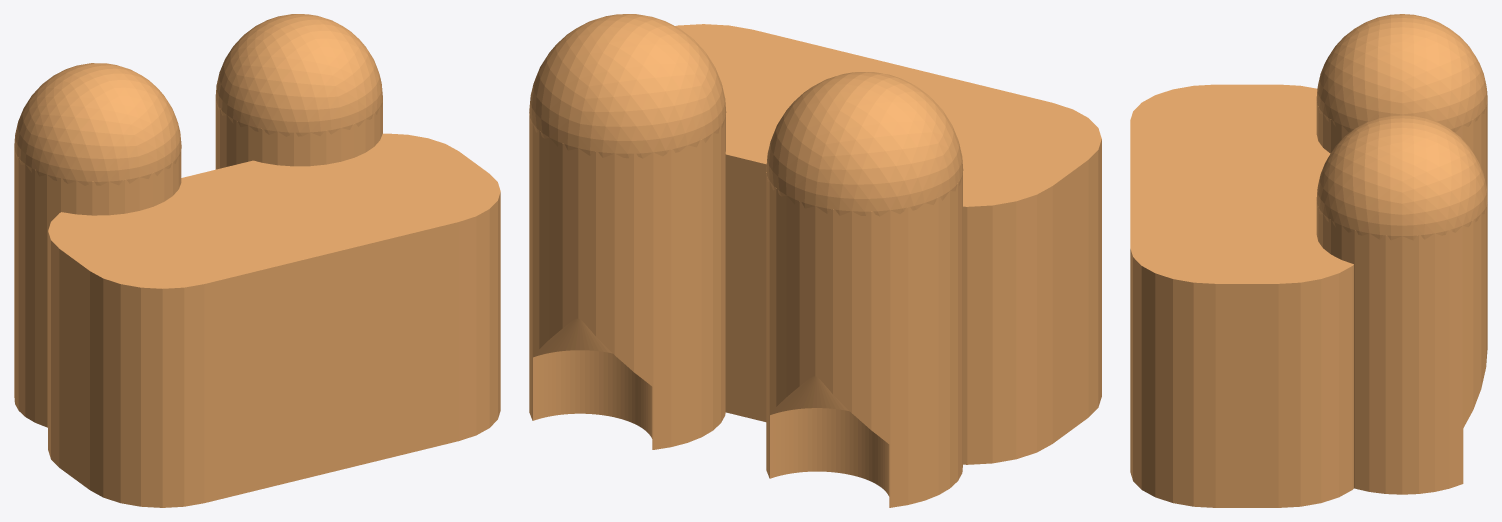
The model's file is robot-back-jetpack.glb.
3 renders of one model, left to right at view 1: azimuth 30°, elevation 25°; view 2: azimuth 150°, elevation 25°; view 3: azimuth 270°, elevation 25°, orthographic. The views are drawn at different scales.
Parts seen in each view (by area): view 1: robot-back-jetpack; view 2: robot-back-jetpack; view 3: robot-back-jetpack.
Part boxes in pixels (x1,y1,x2,y2): robot-back-jetpack: (14,14,500,507); robot-back-jetpack: (529,14,1101,507); robot-back-jetpack: (1130,14,1487,507).
Bounding box in the file's own units: 0.0248 × 0.0195 × 0.0188.
